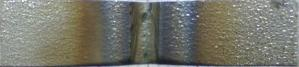soldas: (76, 1, 230, 64)
